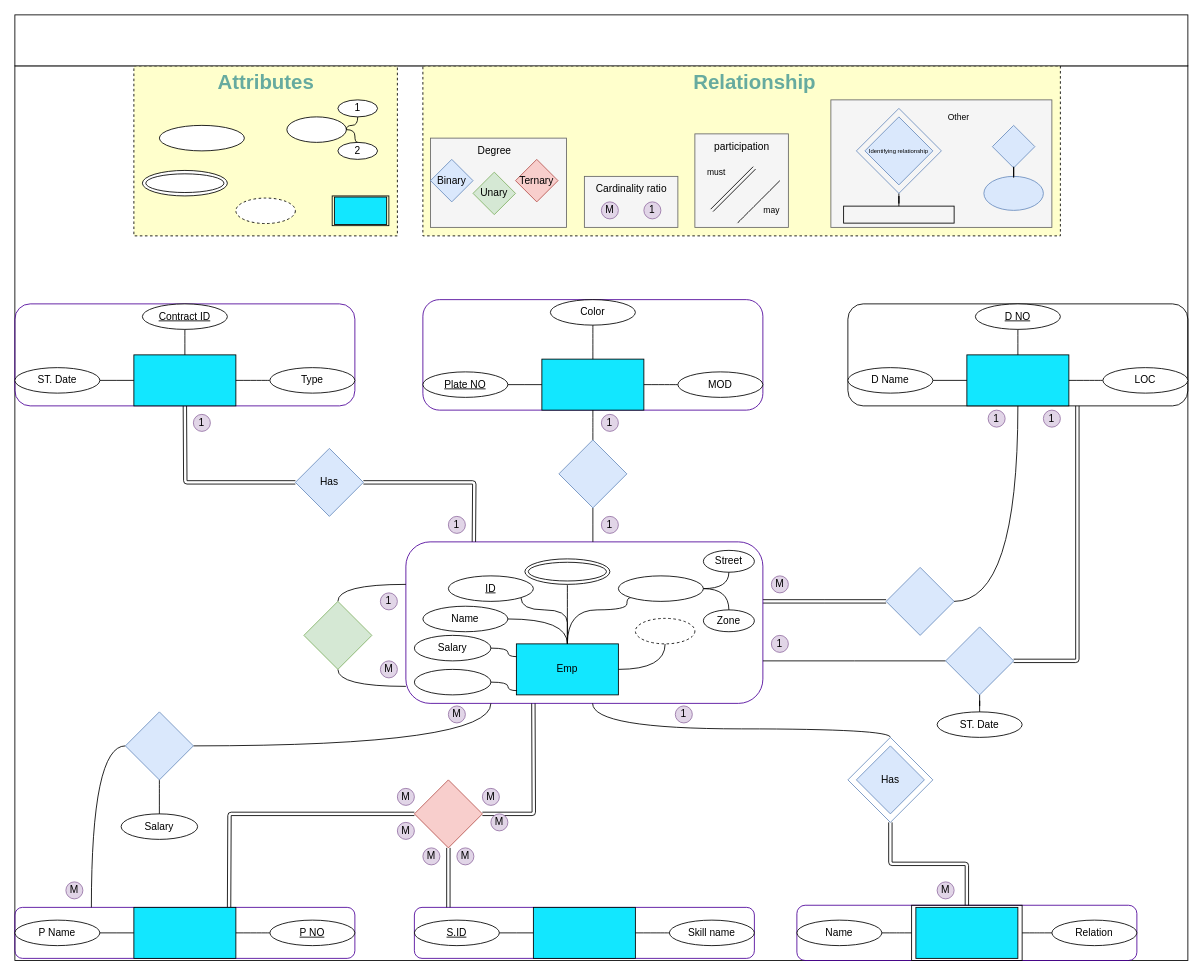
Image size: 1203x976. Some labels were removed from this diagram. Here are the shapes that lost their labels. From the top down, the centre of each, then its label:
At (601,40): "Conceptual Design".
At (201,138): "Single".
At (316,129): "Composite".
At (184,183): "Multi-valued".
At (1013,193): "Common attribute".
At (265,210): "Drived".
At (360,210): "Weak entity".
At (898,214): "Between owner and weak entities".
At (184,380): "Contract".
At (592,384): "Car".
At (1017,380): "Dept".
At (592,473): "Own".
At (567,571): "Phone".
At (660,588): "Address".
At (919,601): "Work".
At (337,635): "Sub".
At (665,631): "Age".
At (979,660): "Manage".
At (452,682): "SSN".
At (159,745): "Work on".
At (448,813): "Skilled use".
At (184,932): "Project".
At (584,932): "Skill".
At (966,932): "Dependet".
